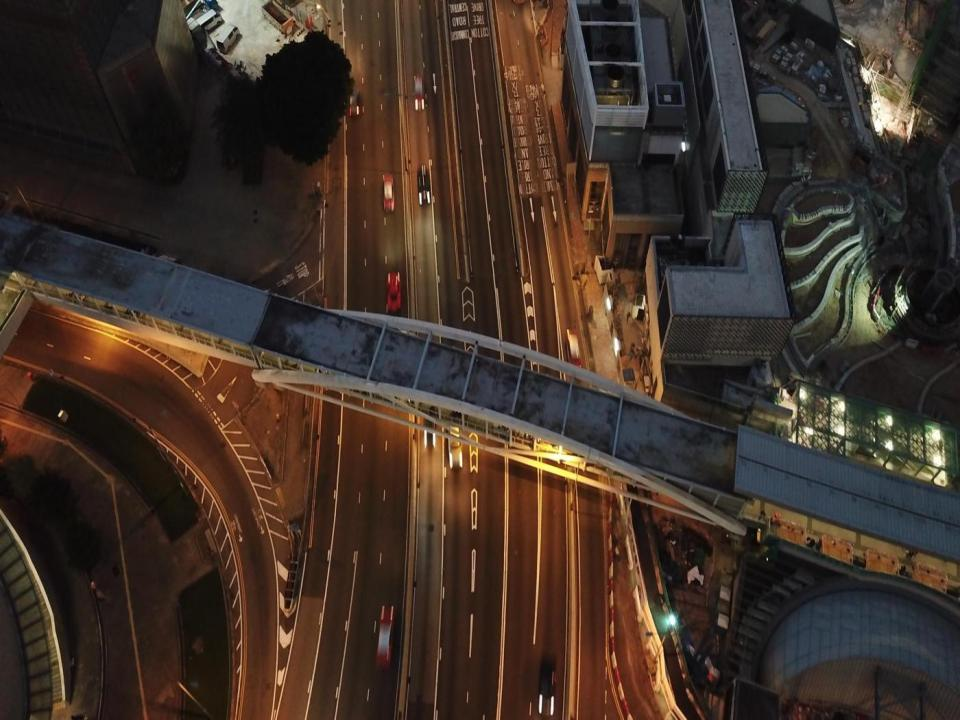car: (375, 605, 395, 667), (536, 657, 556, 714), (565, 326, 582, 381), (446, 416, 463, 470), (422, 402, 435, 448), (387, 271, 401, 311), (416, 164, 430, 204), (383, 174, 395, 212), (414, 77, 425, 112), (348, 87, 360, 116)
